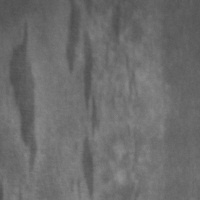inclusion: (63, 1, 102, 199), (5, 16, 40, 176), (106, 1, 126, 47)
